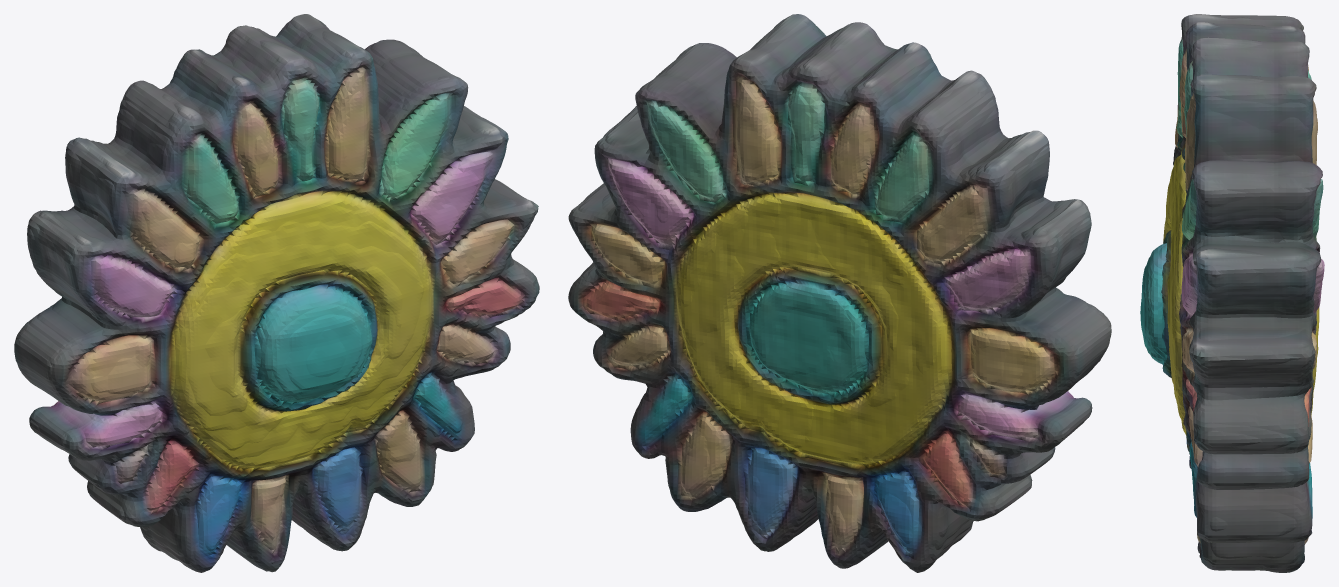
3 views of the same model, side by side, from view 1: azimuth 30°, elevation 25°; view 2: azimuth 150°, elevation 25°; view 3: azimuth 270°, elevation 25° (orthographic). The views are drawn at different scales.
Parts seen in each view (by area): view 1: world; view 2: world; view 3: world.
Part boxes in pixels (x1,y1,x2,y2): world: [14, 14, 539, 572]; world: [568, 14, 1111, 572]; world: [1140, 14, 1324, 572].
Size of the model in its own units: 0.9806 by 0.9618 by 0.3235.
